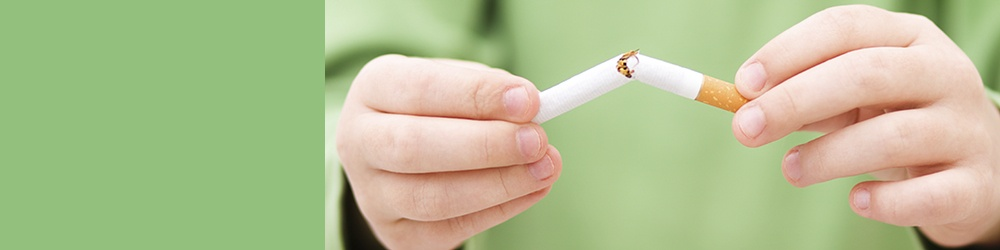sigaretta: (515, 55, 765, 136)
